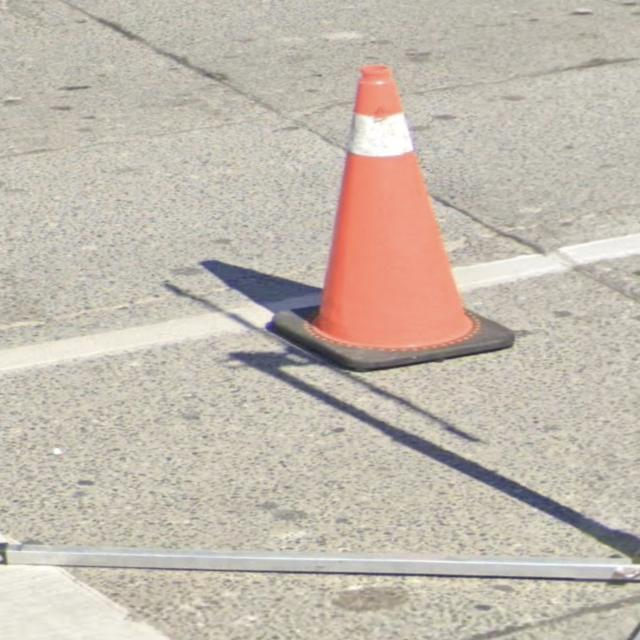Traffic Cone: (266, 62, 518, 374)
